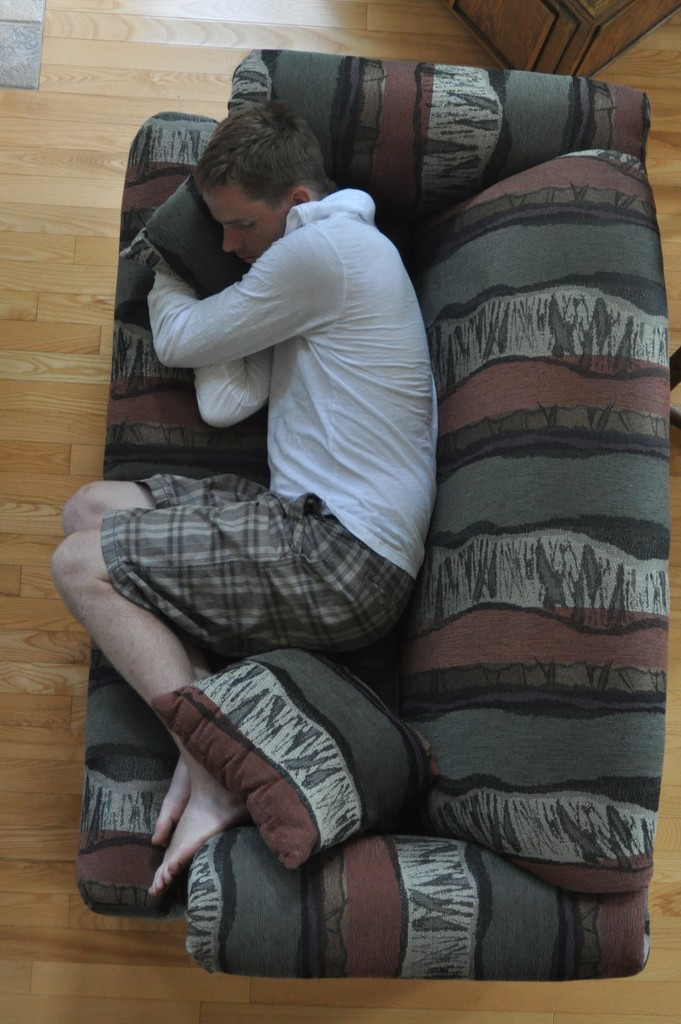Couch: (71, 92, 660, 960)
